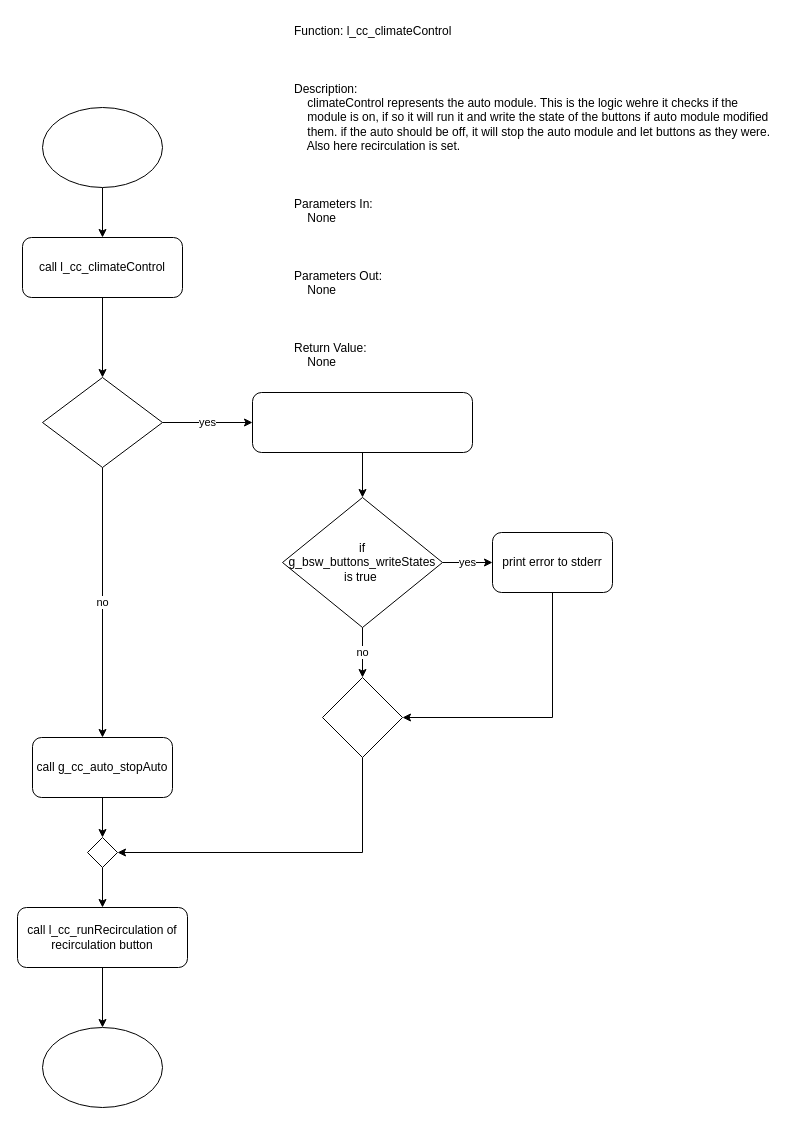
This 790x1125 diagram has some shape labels left out. The centre of each missing label's shape, as x and y in pixels:
call g_cc_auto_run of temp gauge, recirculation and ac_on buttons: pixel 362 422
if auto_on button is true: pixel 102 422
